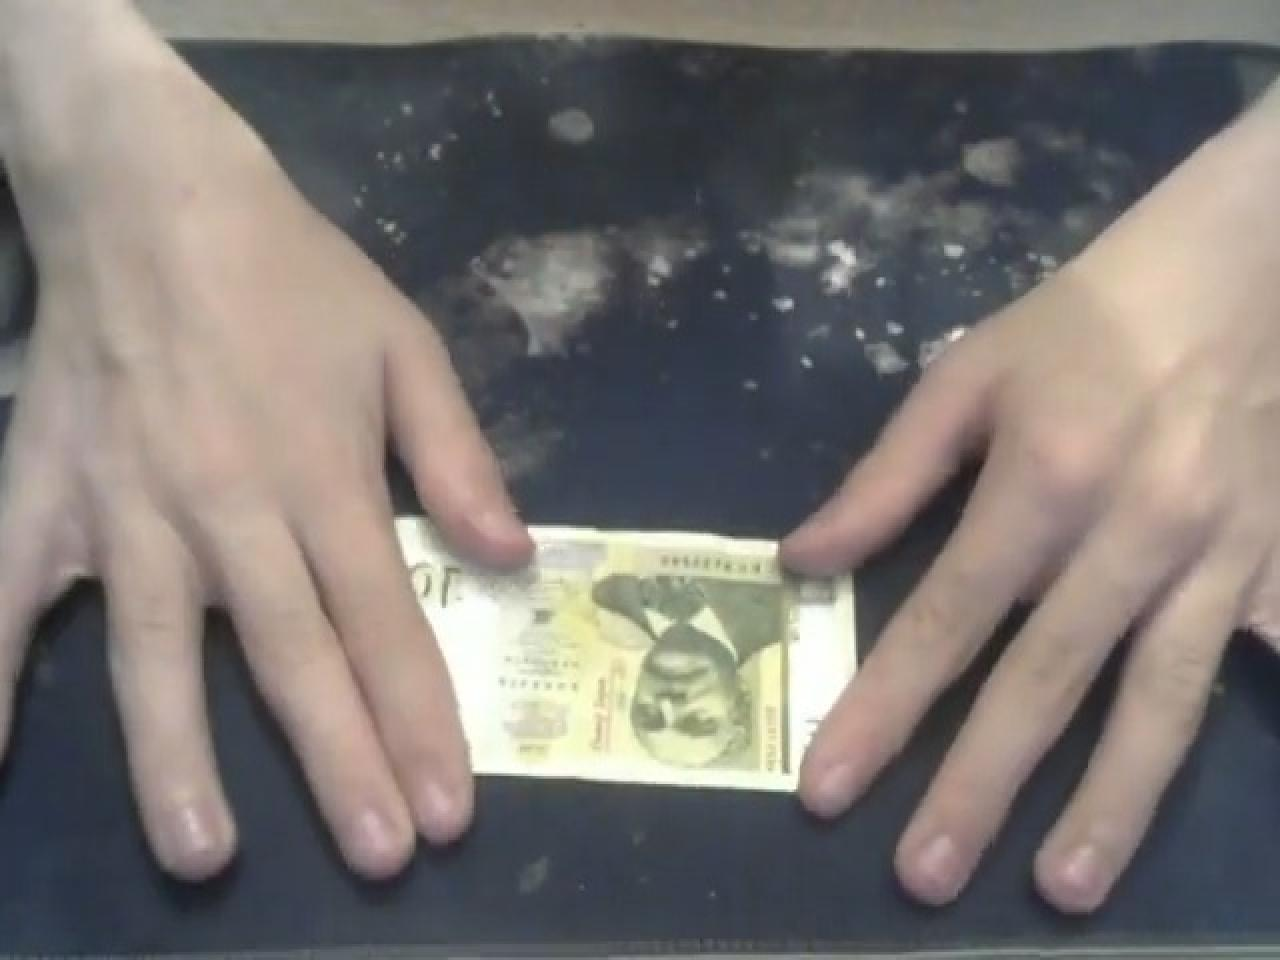10leva: (405, 548, 486, 617)
